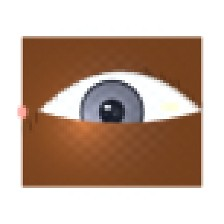pinguecula_lesion: (149, 91, 190, 123)
